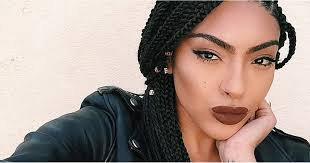black_female: (150, 1, 279, 139)
